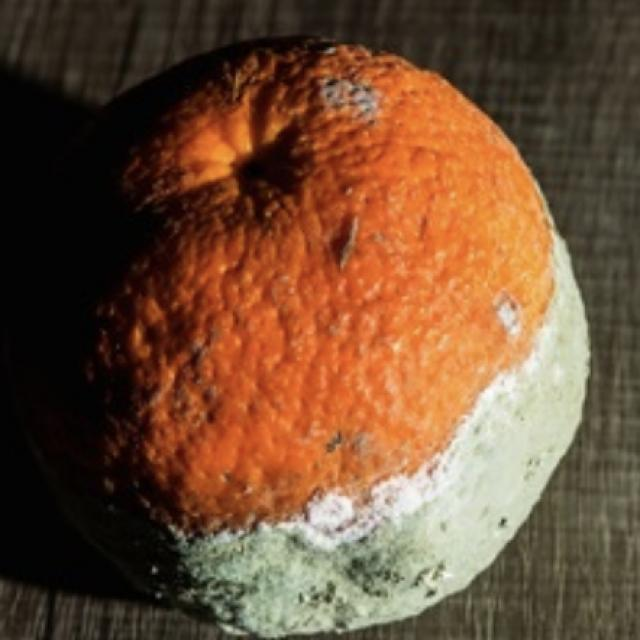rotten-orange: (22, 43, 592, 640)
